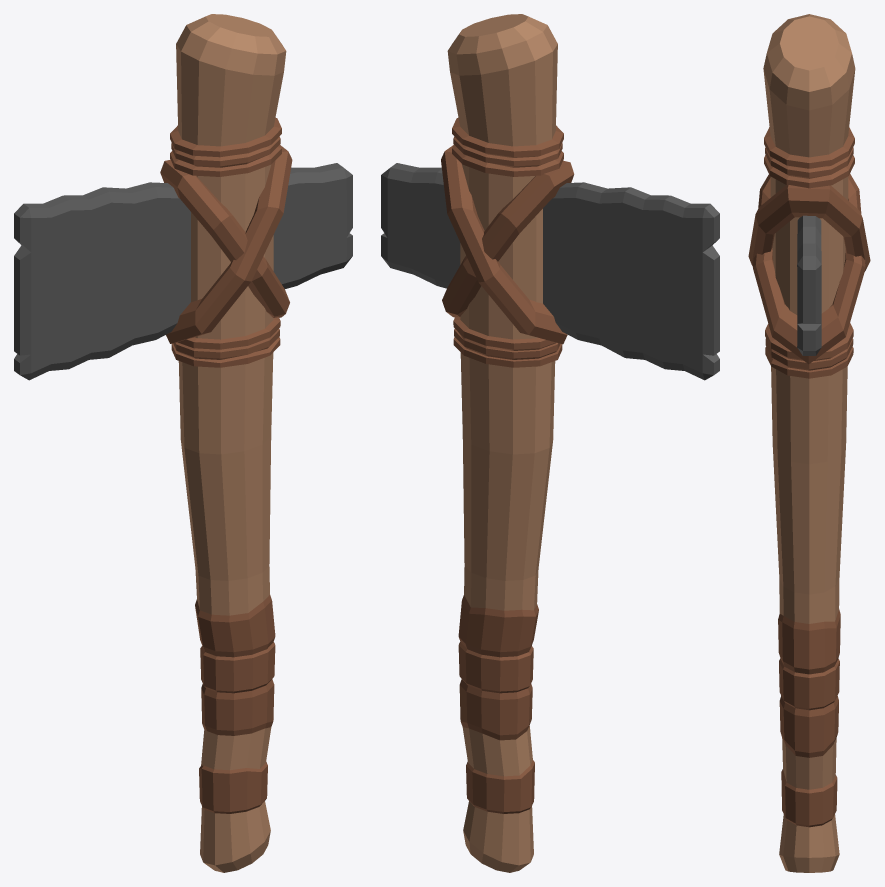
The model's file is Stone Axe.fbx.
3 views of the same model, side by side, from view 1: azimuth 30°, elevation 25°; view 2: azimuth 150°, elevation 25°; view 3: azimuth 270°, elevation 25° (orthographic).
Parts seen in each view (by area): view 1: Stone Axe; view 2: Stone Axe; view 3: Stone Axe.
Part boxes in pixels (box(x1,y1,x2,y2)): Stone Axe: box(14, 14, 352, 872); Stone Axe: box(381, 14, 719, 872); Stone Axe: box(748, 14, 870, 872).
Size of the model in its own units: 54.66 by 134 by 17.41.
